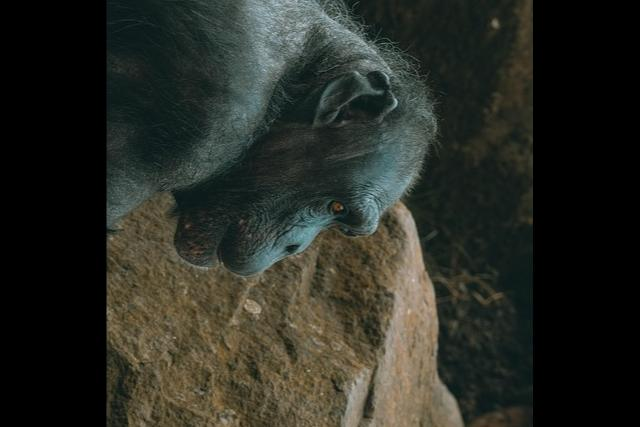gorille_Autres: (107, 0, 461, 303)
